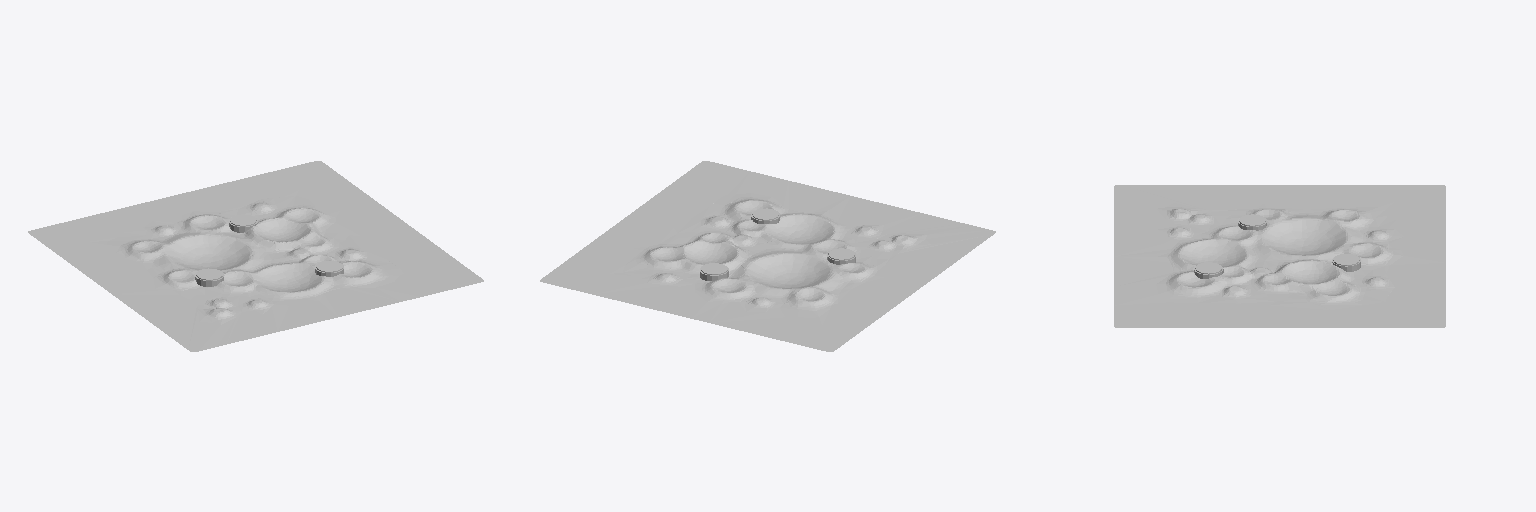
Rendered from moon_surface 2.obj.
3 renders of one model, left to right at view 1: azimuth 30°, elevation 25°; view 2: azimuth 150°, elevation 25°; view 3: azimuth 270°, elevation 25°, orthographic.
Visible parts, largest first — view 1: Cylinder; view 2: Cylinder; view 3: Cylinder.
Part boxes in pixels (left/top/right/bottom): Cylinder: left=28, top=161, right=483, bottom=351; Cylinder: left=540, top=161, right=995, bottom=351; Cylinder: left=1114, top=185, right=1445, bottom=327.
Bounding box in the file's own units: 57.83 × 2.49 × 56.57.